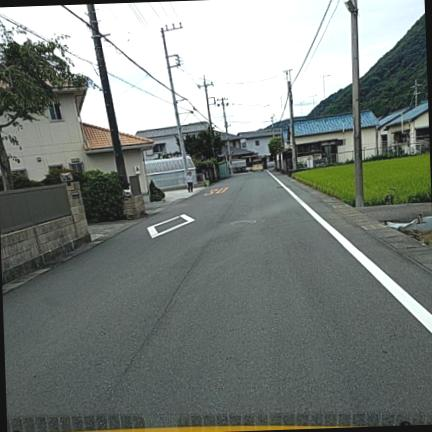Road: (3, 173, 431, 416)
